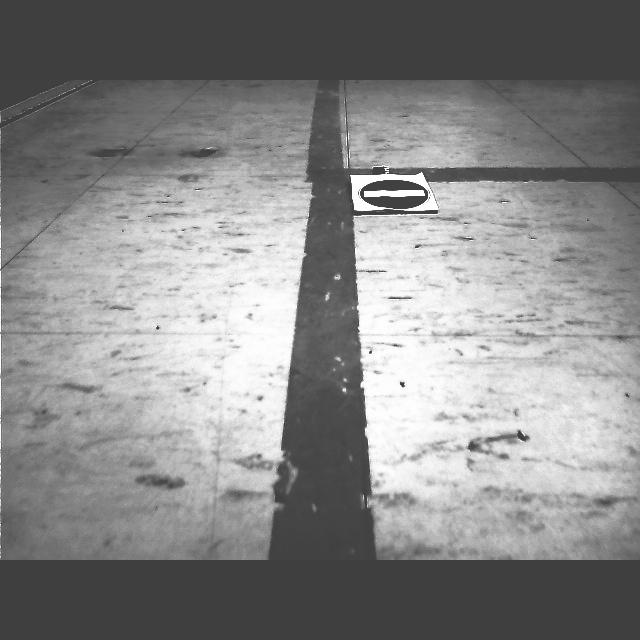NO ENTRY: (360, 180, 428, 208)
